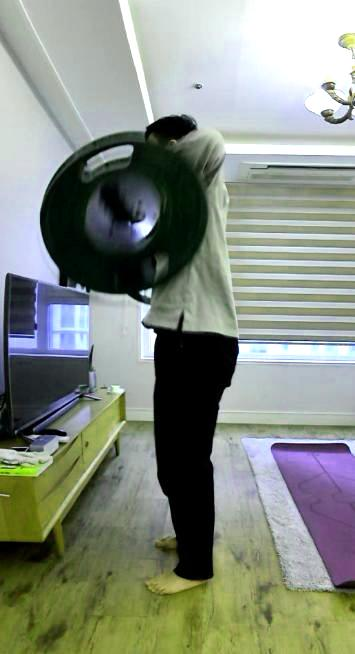Barbell: (94, 174, 132, 220)
